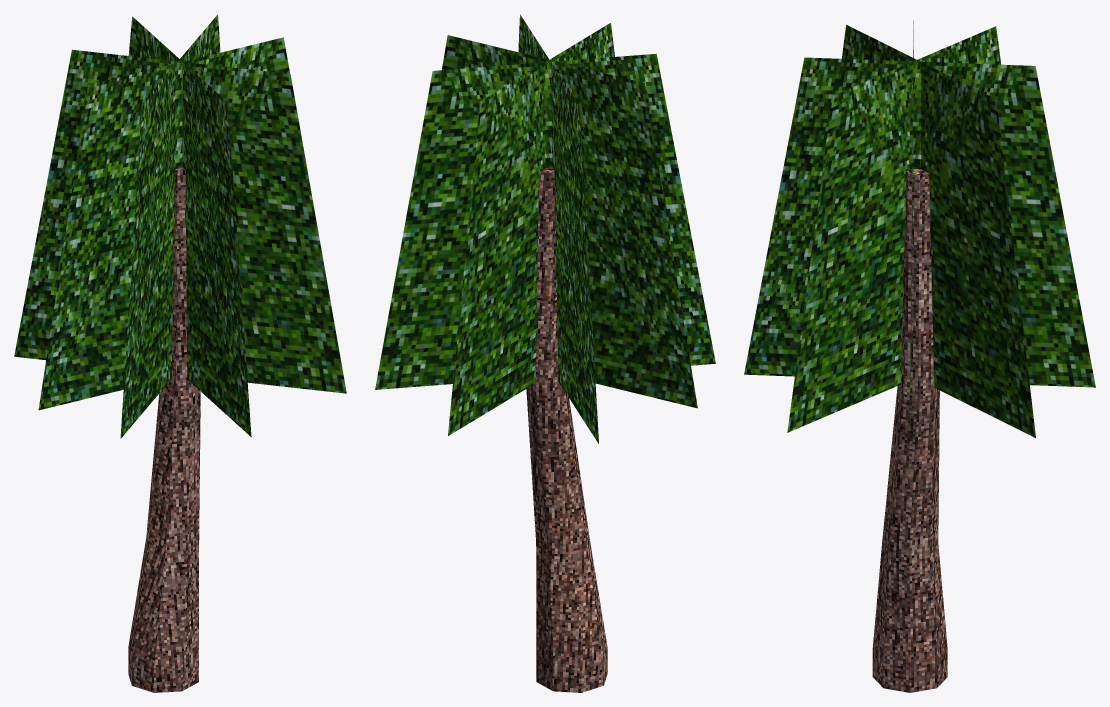
The model's file is Arbol 2.fbx.
3 renders of one model, left to right at view 1: azimuth 30°, elevation 25°; view 2: azimuth 150°, elevation 25°; view 3: azimuth 270°, elevation 25°, orthographic. The views are drawn at different scales.
Parts seen in each view (by area): view 1: pCylinder4; view 2: pCylinder4; view 3: pCylinder4.
Part boxes in pixels (x1,y1,x2,y2): pCylinder4: (14, 14, 346, 692); pCylinder4: (375, 14, 715, 692); pCylinder4: (744, 20, 1095, 692).
Bounding box in the file's own units: 117 × 229 × 117.
